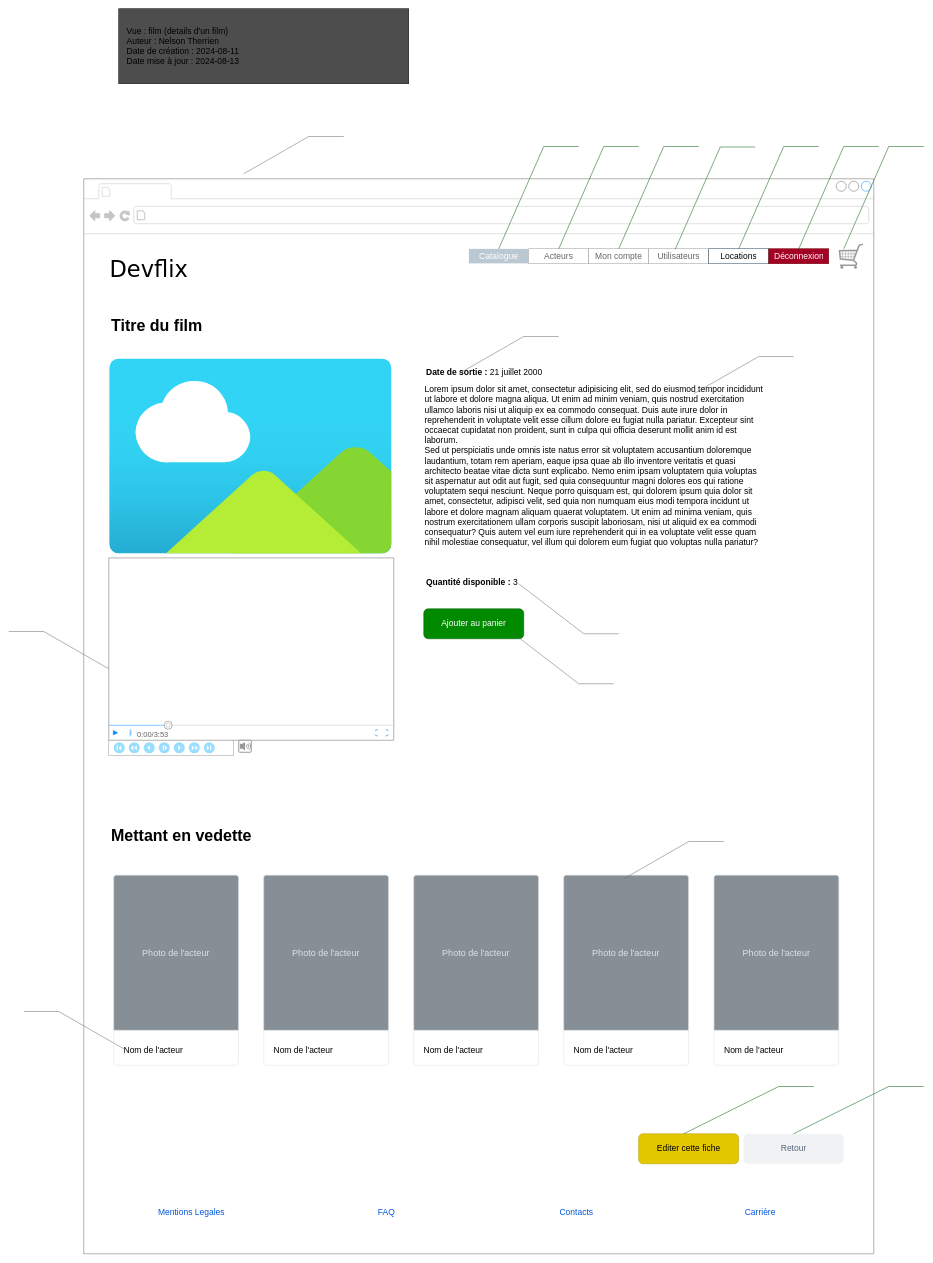
This 933x1263 diagram has some shape labels left out. The centre of each missing label's shape, as x and y in pixels:
https://www.devflix.com/film/:id_film: [233,215]
Page 1: [141,191]
